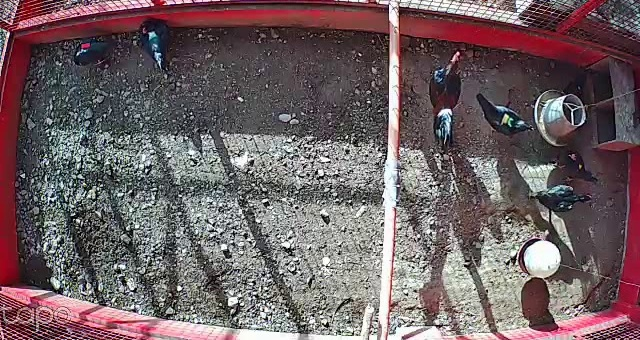Chicken: (474, 91, 534, 142), (136, 16, 179, 78), (552, 139, 603, 189), (522, 183, 597, 213), (71, 37, 123, 71), (557, 69, 595, 104)
Rooster: (423, 48, 472, 153)
Saddle_Color_Red: (81, 42, 91, 47)
Saddle_Color_YellowGreen: (500, 114, 517, 124)
